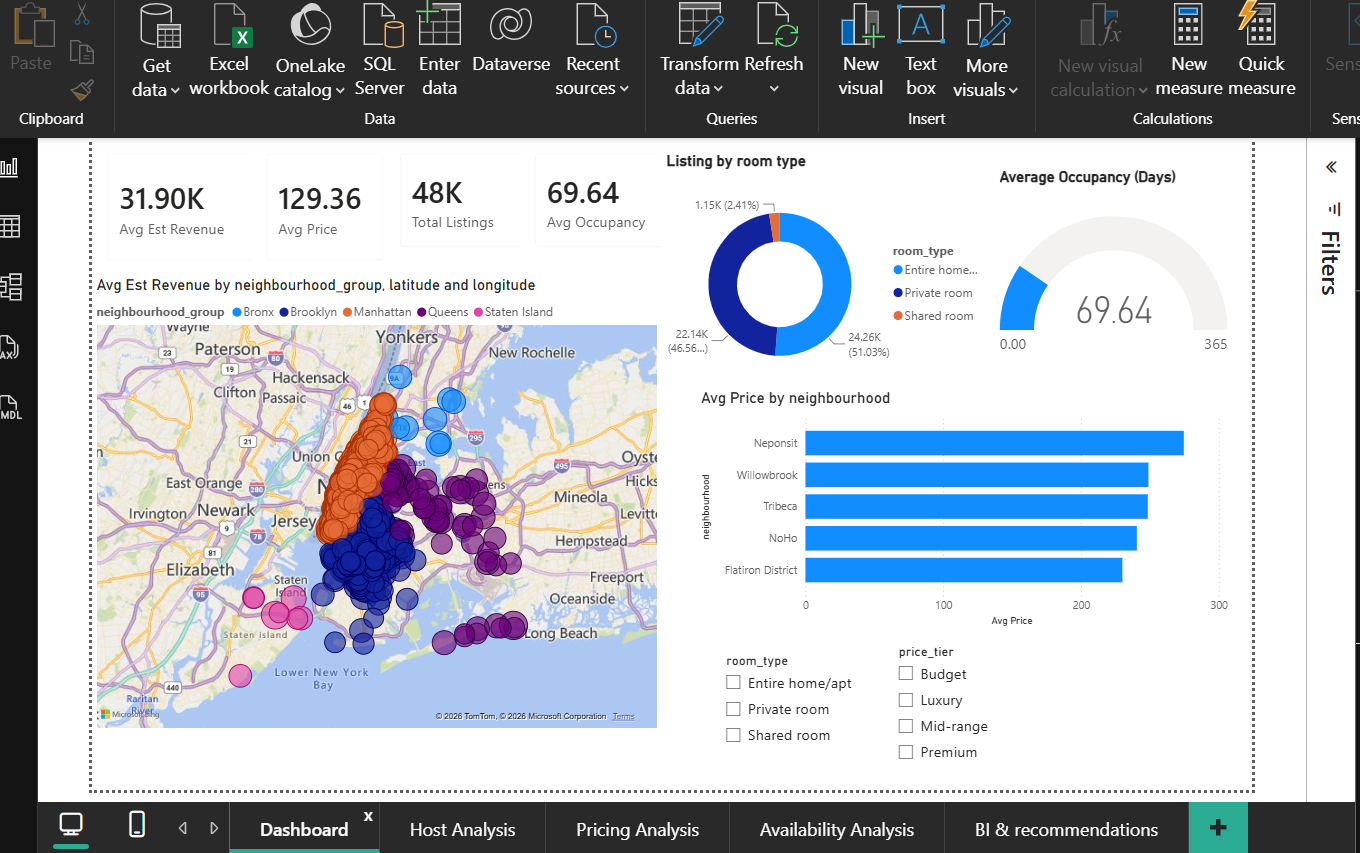

Layout of this report page (visuals, bound fields, positions):
{"tool":"powerbi","page":{"name":"Page 1","canvas":[1280,720],"ordinal":0},"visuals":[{"type":"cardVisual","fields":{"Data":["airbnb_analysis listings.Avg Est Revenue"]},"box":[0,0,198.8,205.4],"z":0},{"type":"cardVisual","fields":{"Data":["airbnb_analysis listings.Avg Price"]},"box":[198.8,0,198.8,205.4],"z":1000},{"type":"cardVisual","fields":{"Data":["airbnb_analysis listings.Total Listings"]},"box":[339.6,0,198.8,205.4],"z":2000},{"type":"cardVisual","fields":{"Data":["airbnb_analysis listings.Avg Occupancy"]},"box":[492,0,198.8,203.7],"z":3000},{"type":"map","fields":{"Y":["airbnb_analysis listings.latitude"],"X":["airbnb_analysis listings.longitude"],"Size":["airbnb_analysis listings.Avg Est Revenue"],"Series":["airbnb_analysis listings.neighbourhood_group"]},"box":[0,241.8,571.5,424.1],"z":4000},{"type":"slicer","fields":{"Values":["airbnb_analysis listings.room_type"]},"box":[581.7,241.7,275,131.7],"z":4001},{"type":"slicer","fields":{"Values":["airbnb_analysis listings.price_tier"]},"box":[581.7,373.3,211.7,155],"z":4002}]}

Visuals, with their boxes on the page's 1280x720 design canvas (x1, y1, x2, y2). These are canvas units, not pixel positions in the 1360x853 screenshot, which may show the page scaled, cropped or inside an application window:
cardVisual - airbnb_analysis listings.Avg Est Revenue: {"x1": 0, "y1": 0, "x2": 199, "y2": 205}
cardVisual - airbnb_analysis listings.Avg Price: {"x1": 199, "y1": 0, "x2": 398, "y2": 205}
cardVisual - airbnb_analysis listings.Total Listings: {"x1": 340, "y1": 0, "x2": 538, "y2": 205}
cardVisual - airbnb_analysis listings.Avg Occupancy: {"x1": 492, "y1": 0, "x2": 691, "y2": 204}
map - airbnb_analysis listings.latitude x airbnb_analysis listings.longitude: {"x1": 0, "y1": 242, "x2": 572, "y2": 666}
slicer - airbnb_analysis listings.room_type: {"x1": 582, "y1": 242, "x2": 857, "y2": 373}
slicer - airbnb_analysis listings.price_tier: {"x1": 582, "y1": 373, "x2": 793, "y2": 528}
